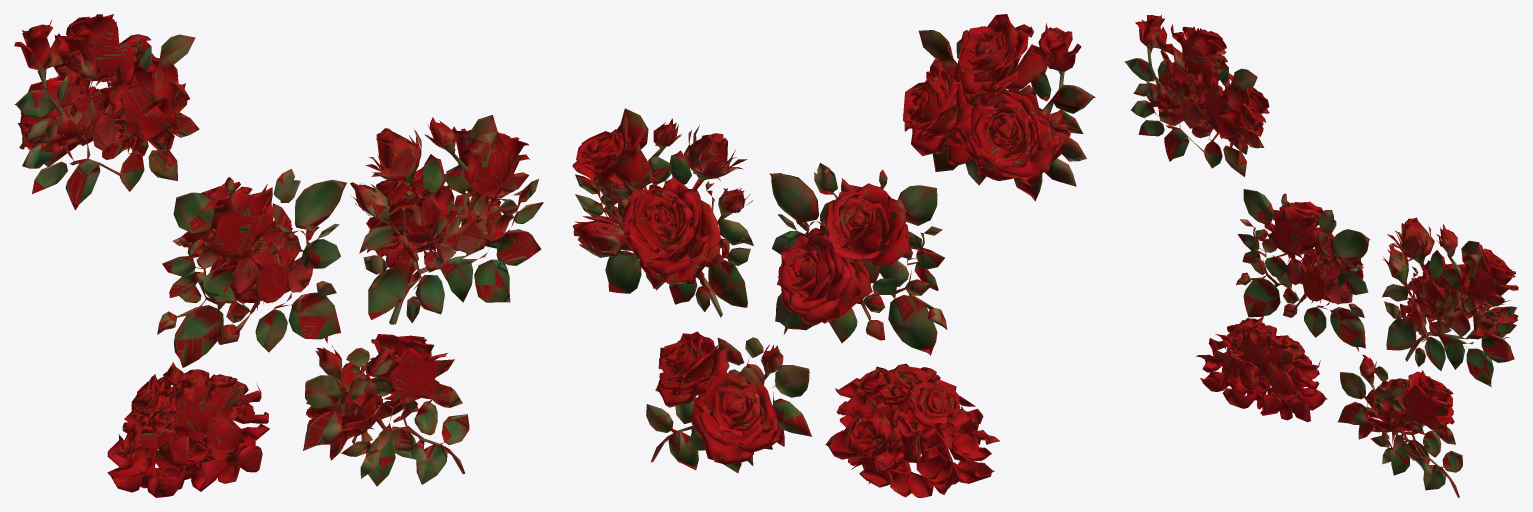
3 renders of one model, left to right at view 1: azimuth 30°, elevation 25°; view 2: azimuth 150°, elevation 25°; view 3: azimuth 330°, elevation 25°, orthographic. The views are drawn at different scales.
Parts seen in each view (by area): view 1: Mesh 16, Mesh 8, Mesh 3, Mesh 15, Mesh 4; view 2: Mesh 16, Mesh 3, Mesh 8, Mesh 4, Mesh 15; view 3: Mesh 16, Mesh 3, Mesh 8, Mesh 15, Mesh 4.
Boxes of the visible parts, box(x1,y1,x2,y2) form: Mesh 16: box(350, 115, 543, 324); Mesh 8: box(157, 169, 346, 367); Mesh 3: box(14, 14, 199, 210); Mesh 15: box(302, 334, 469, 486); Mesh 4: box(107, 362, 269, 497); Mesh 16: box(572, 108, 753, 317); Mesh 3: box(903, 14, 1095, 201); Mesh 8: box(769, 163, 947, 355); Mesh 4: box(825, 363, 999, 497); Mesh 15: box(646, 331, 812, 473); Mesh 16: box(1382, 217, 1518, 387); Mesh 3: box(1124, 14, 1269, 176); Mesh 8: box(1236, 189, 1369, 351); Mesh 15: box(1337, 354, 1462, 497); Mesh 4: box(1196, 316, 1327, 422).
Bounding box in the file's own units: 1.87 × 1.85 × 0.2715.
5 materials, 5 textured.
